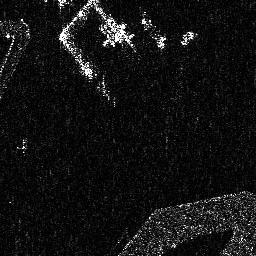ship: (141, 18, 166, 50), (99, 23, 116, 45)
